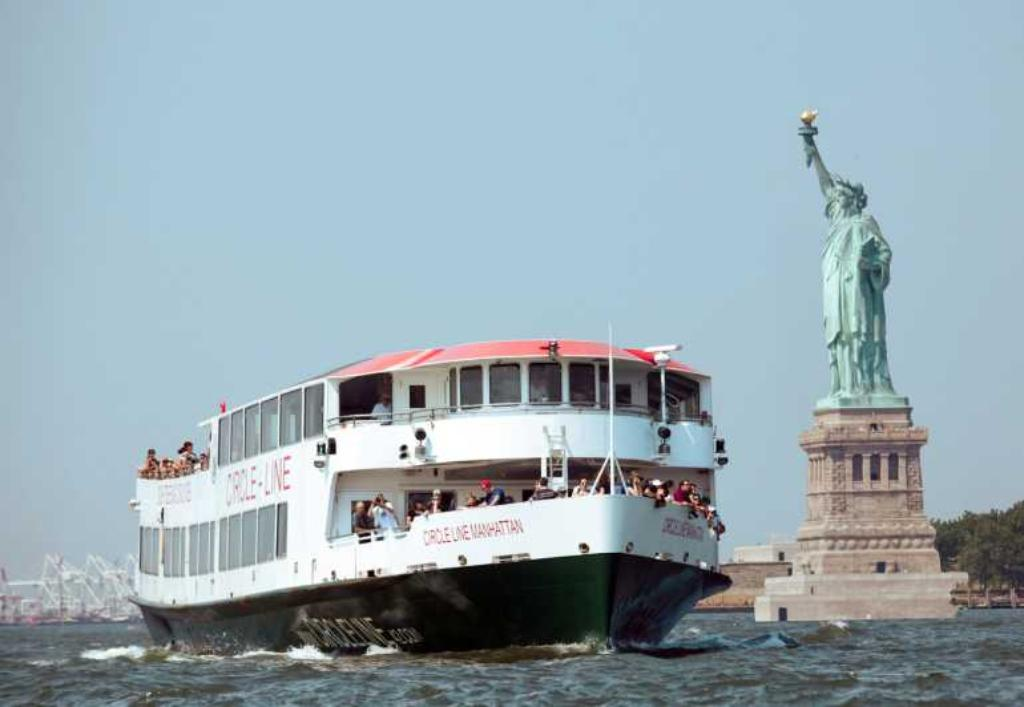PassengerShip: (116, 297, 756, 663)
